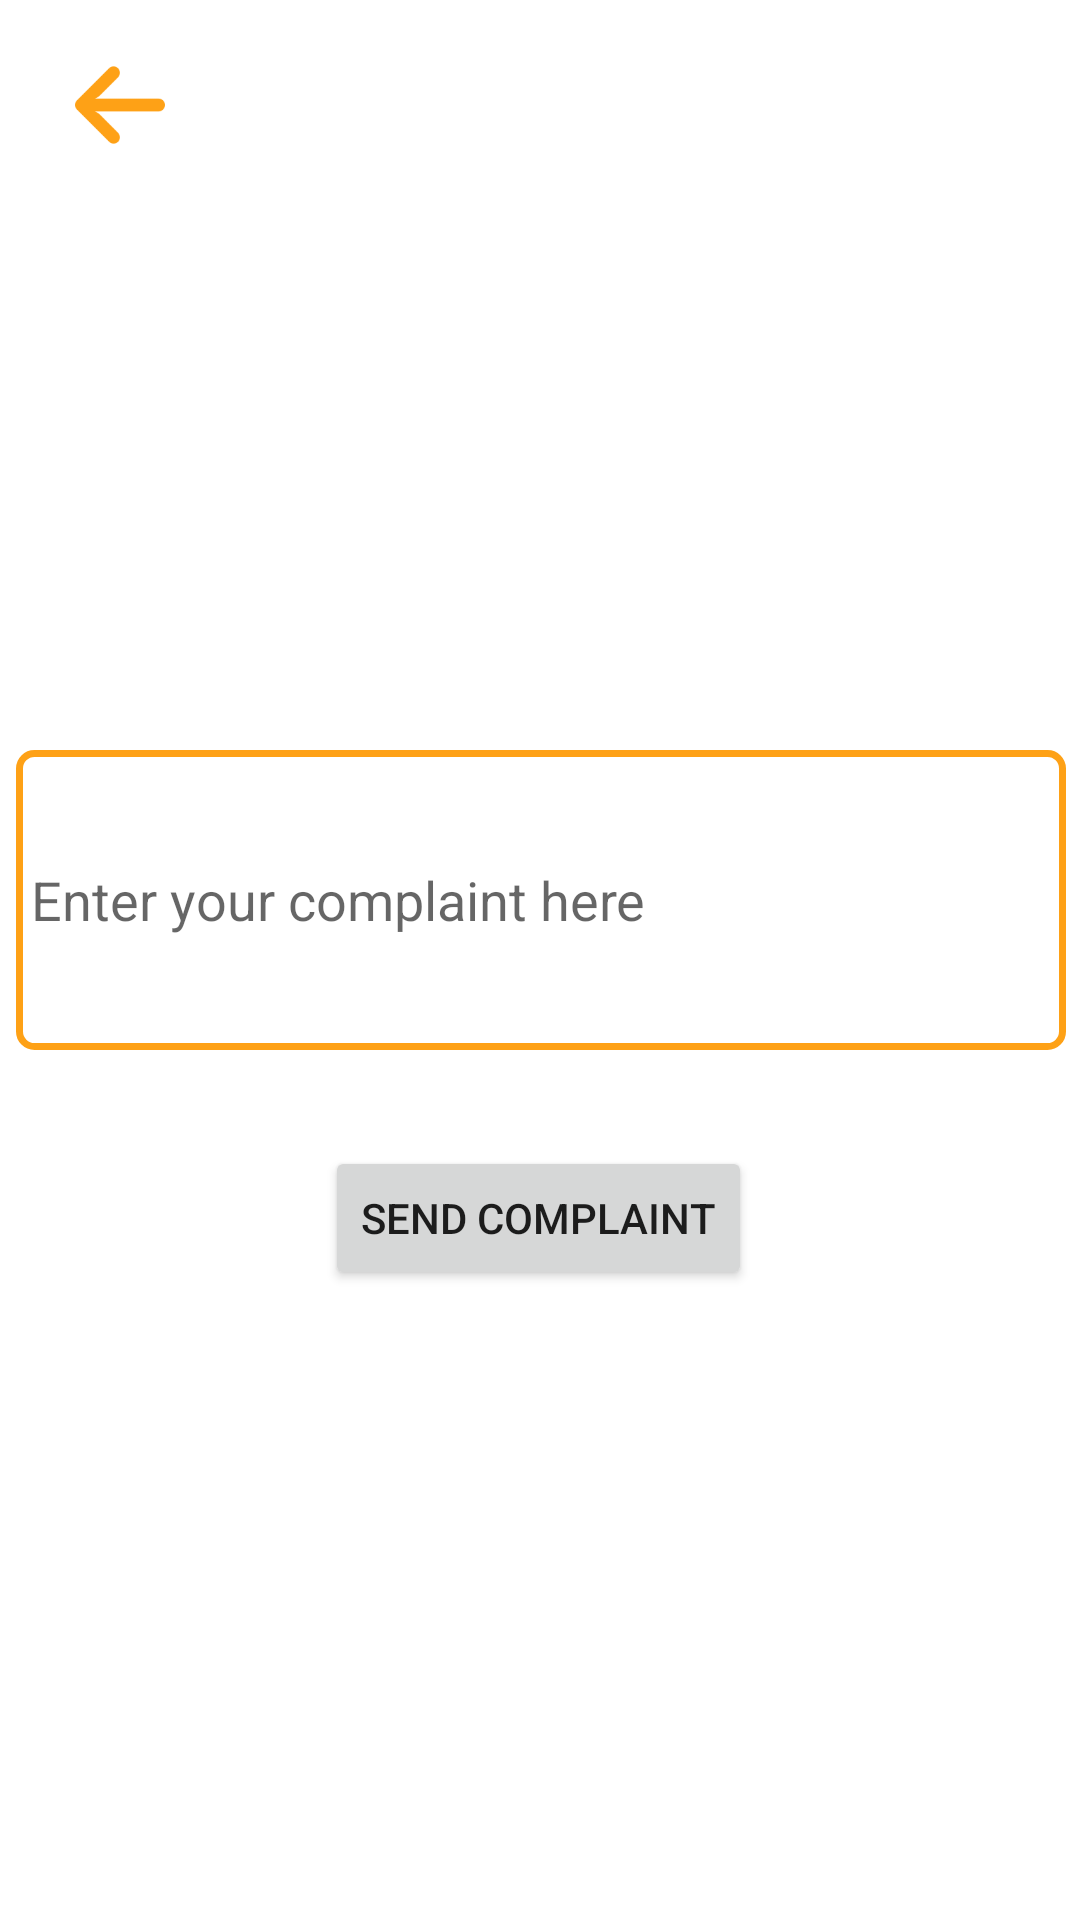

Where icons sit on this 1080 x 1920 app screen, as (x1, y1, x2, y2):
arrow: (75, 66, 165, 144)
